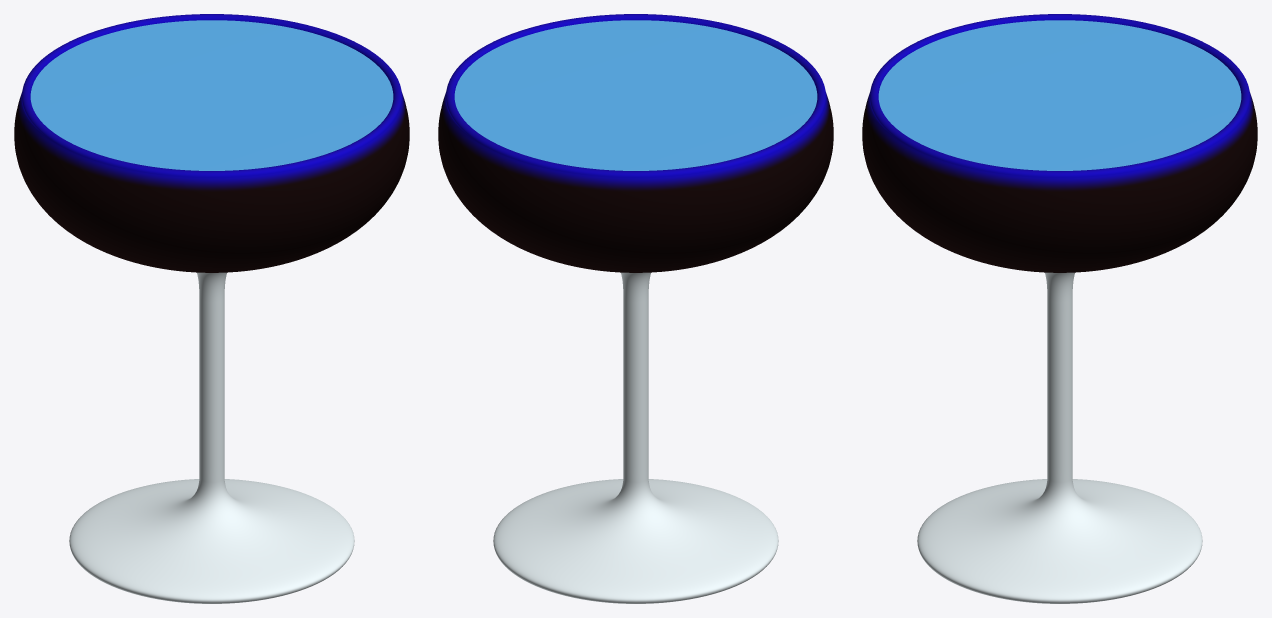
The model's file is Coupe.fbx.
The picture shows the model from 3 angles, left to right: view 1: azimuth 30°, elevation 25°; view 2: azimuth 150°, elevation 25°; view 3: azimuth 270°, elevation 25°; orthographic projection.
Parts seen in each view (by area): view 1: Coupe::InnerCavity, Coupe::Shell, Coupe::FootStem; view 2: Coupe::InnerCavity, Coupe::Shell, Coupe::FootStem; view 3: Coupe::InnerCavity, Coupe::Shell, Coupe::FootStem.
Part boxes in pixels (x1,y1,x2,y2): Coupe::InnerCavity: (30, 20, 393, 170); Coupe::Shell: (14, 14, 409, 272); Coupe::FootStem: (69, 272, 354, 603); Coupe::InnerCavity: (454, 20, 817, 170); Coupe::Shell: (438, 14, 833, 272); Coupe::FootStem: (493, 272, 778, 603); Coupe::InnerCavity: (878, 20, 1241, 170); Coupe::Shell: (862, 14, 1257, 272); Coupe::FootStem: (917, 272, 1202, 603).
Bounding box in the file's own units: 9.99 × 12.6 × 9.99.
